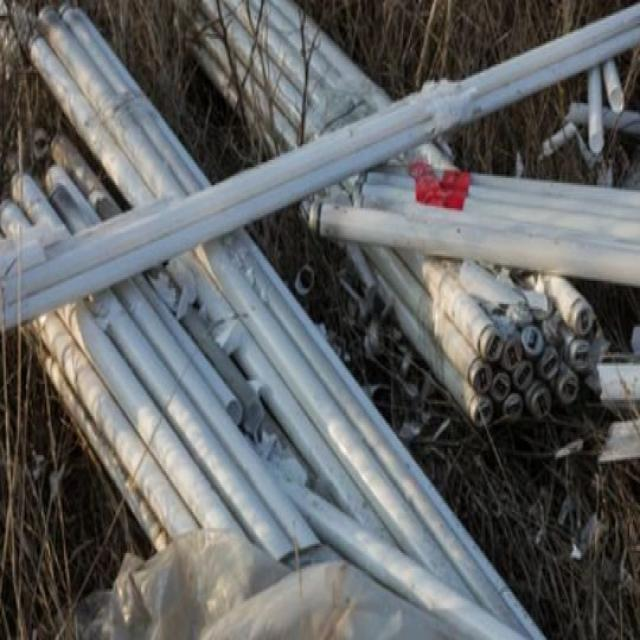electronic: (0, 0, 639, 638), (602, 57, 625, 114)
